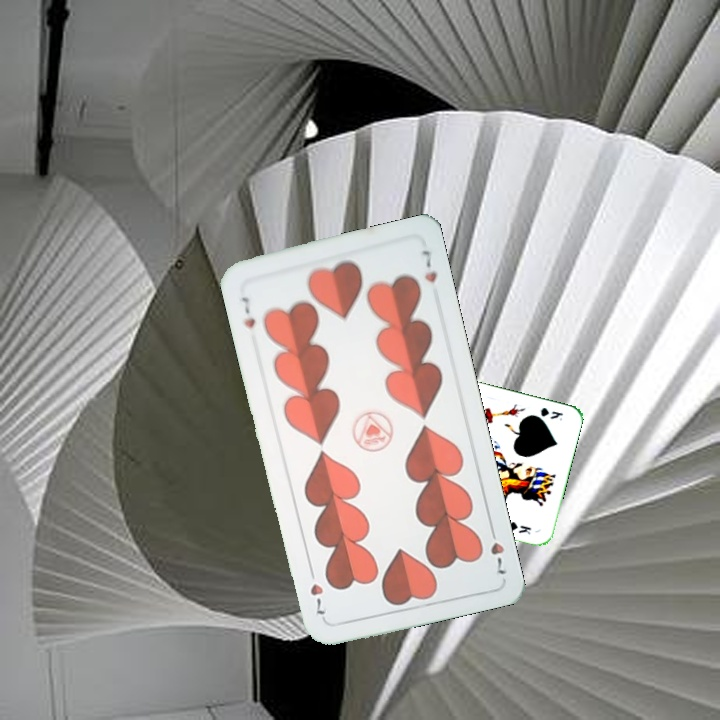GK: (535, 403, 566, 423)
H7: (485, 521, 509, 577), (237, 293, 258, 331)
